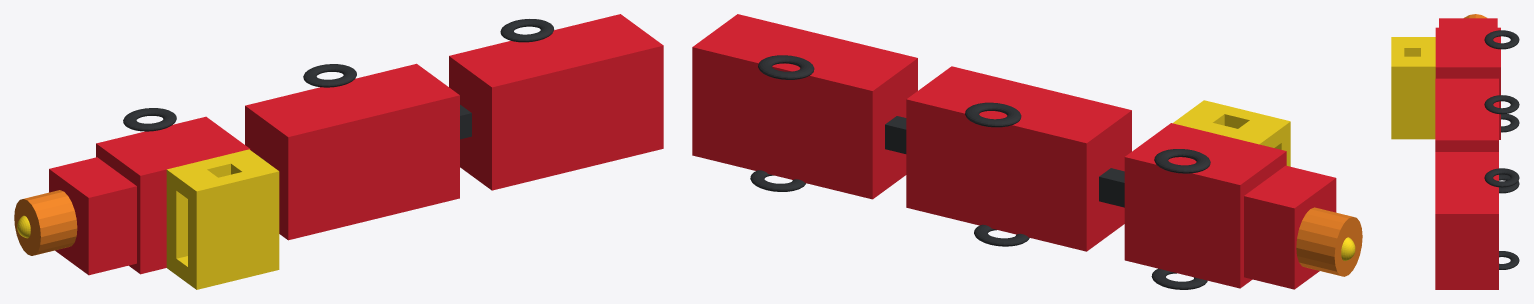
File: tinker.obj
3 renders of one model, left to right at view 1: azimuth 30°, elevation 25°; view 2: azimuth 150°, elevation 25°; view 3: azimuth 270°, elevation 25°, orthographic. The views are drawn at different scales.
Visible parts, largest first — view 1: group_0_15277357, group_0_16768282, group_0_16089887, group_0_2829873; view 2: group_0_15277357, group_0_2829873, group_0_16768282, group_0_16089887; view 3: group_0_15277357, group_0_16768282, group_0_2829873.
Part boxes in pixels (x1=…): group_0_15277357: x1=49, y1=14, x2=663, y2=275; group_0_16768282: x1=17, y1=149, x2=279, y2=289; group_0_16089887: x1=14, y1=190, x2=77, y2=255; group_0_2829873: x1=123, y1=19, x2=554, y2=162; group_0_15277357: x1=692, y1=14, x2=1336, y2=289; group_0_2829873: x1=750, y1=55, x2=1210, y2=289; group_0_16768282: x1=1173, y1=100, x2=1355, y2=260; group_0_16089887: x1=1296, y1=207, x2=1362, y2=276; group_0_15277357: x1=1435, y1=18, x2=1500, y2=289; group_0_16768282: x1=1391, y1=37, x2=1435, y2=139; group_0_2829873: x1=1484, y1=30, x2=1519, y2=269.
Bounding box in the file's own units: 627 × 114 × 153.
